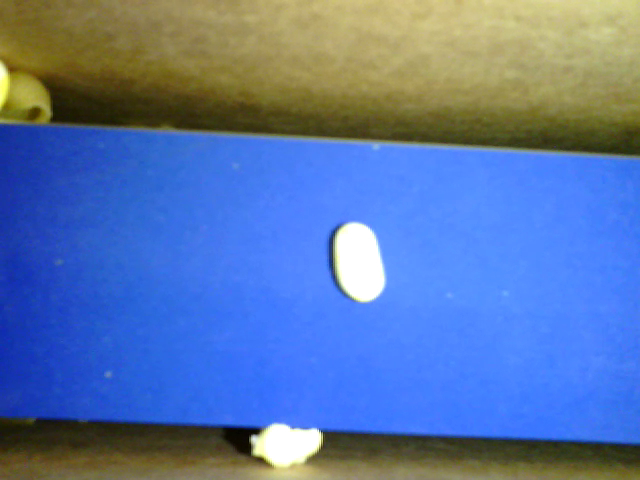shell: (1, 72, 56, 129)
